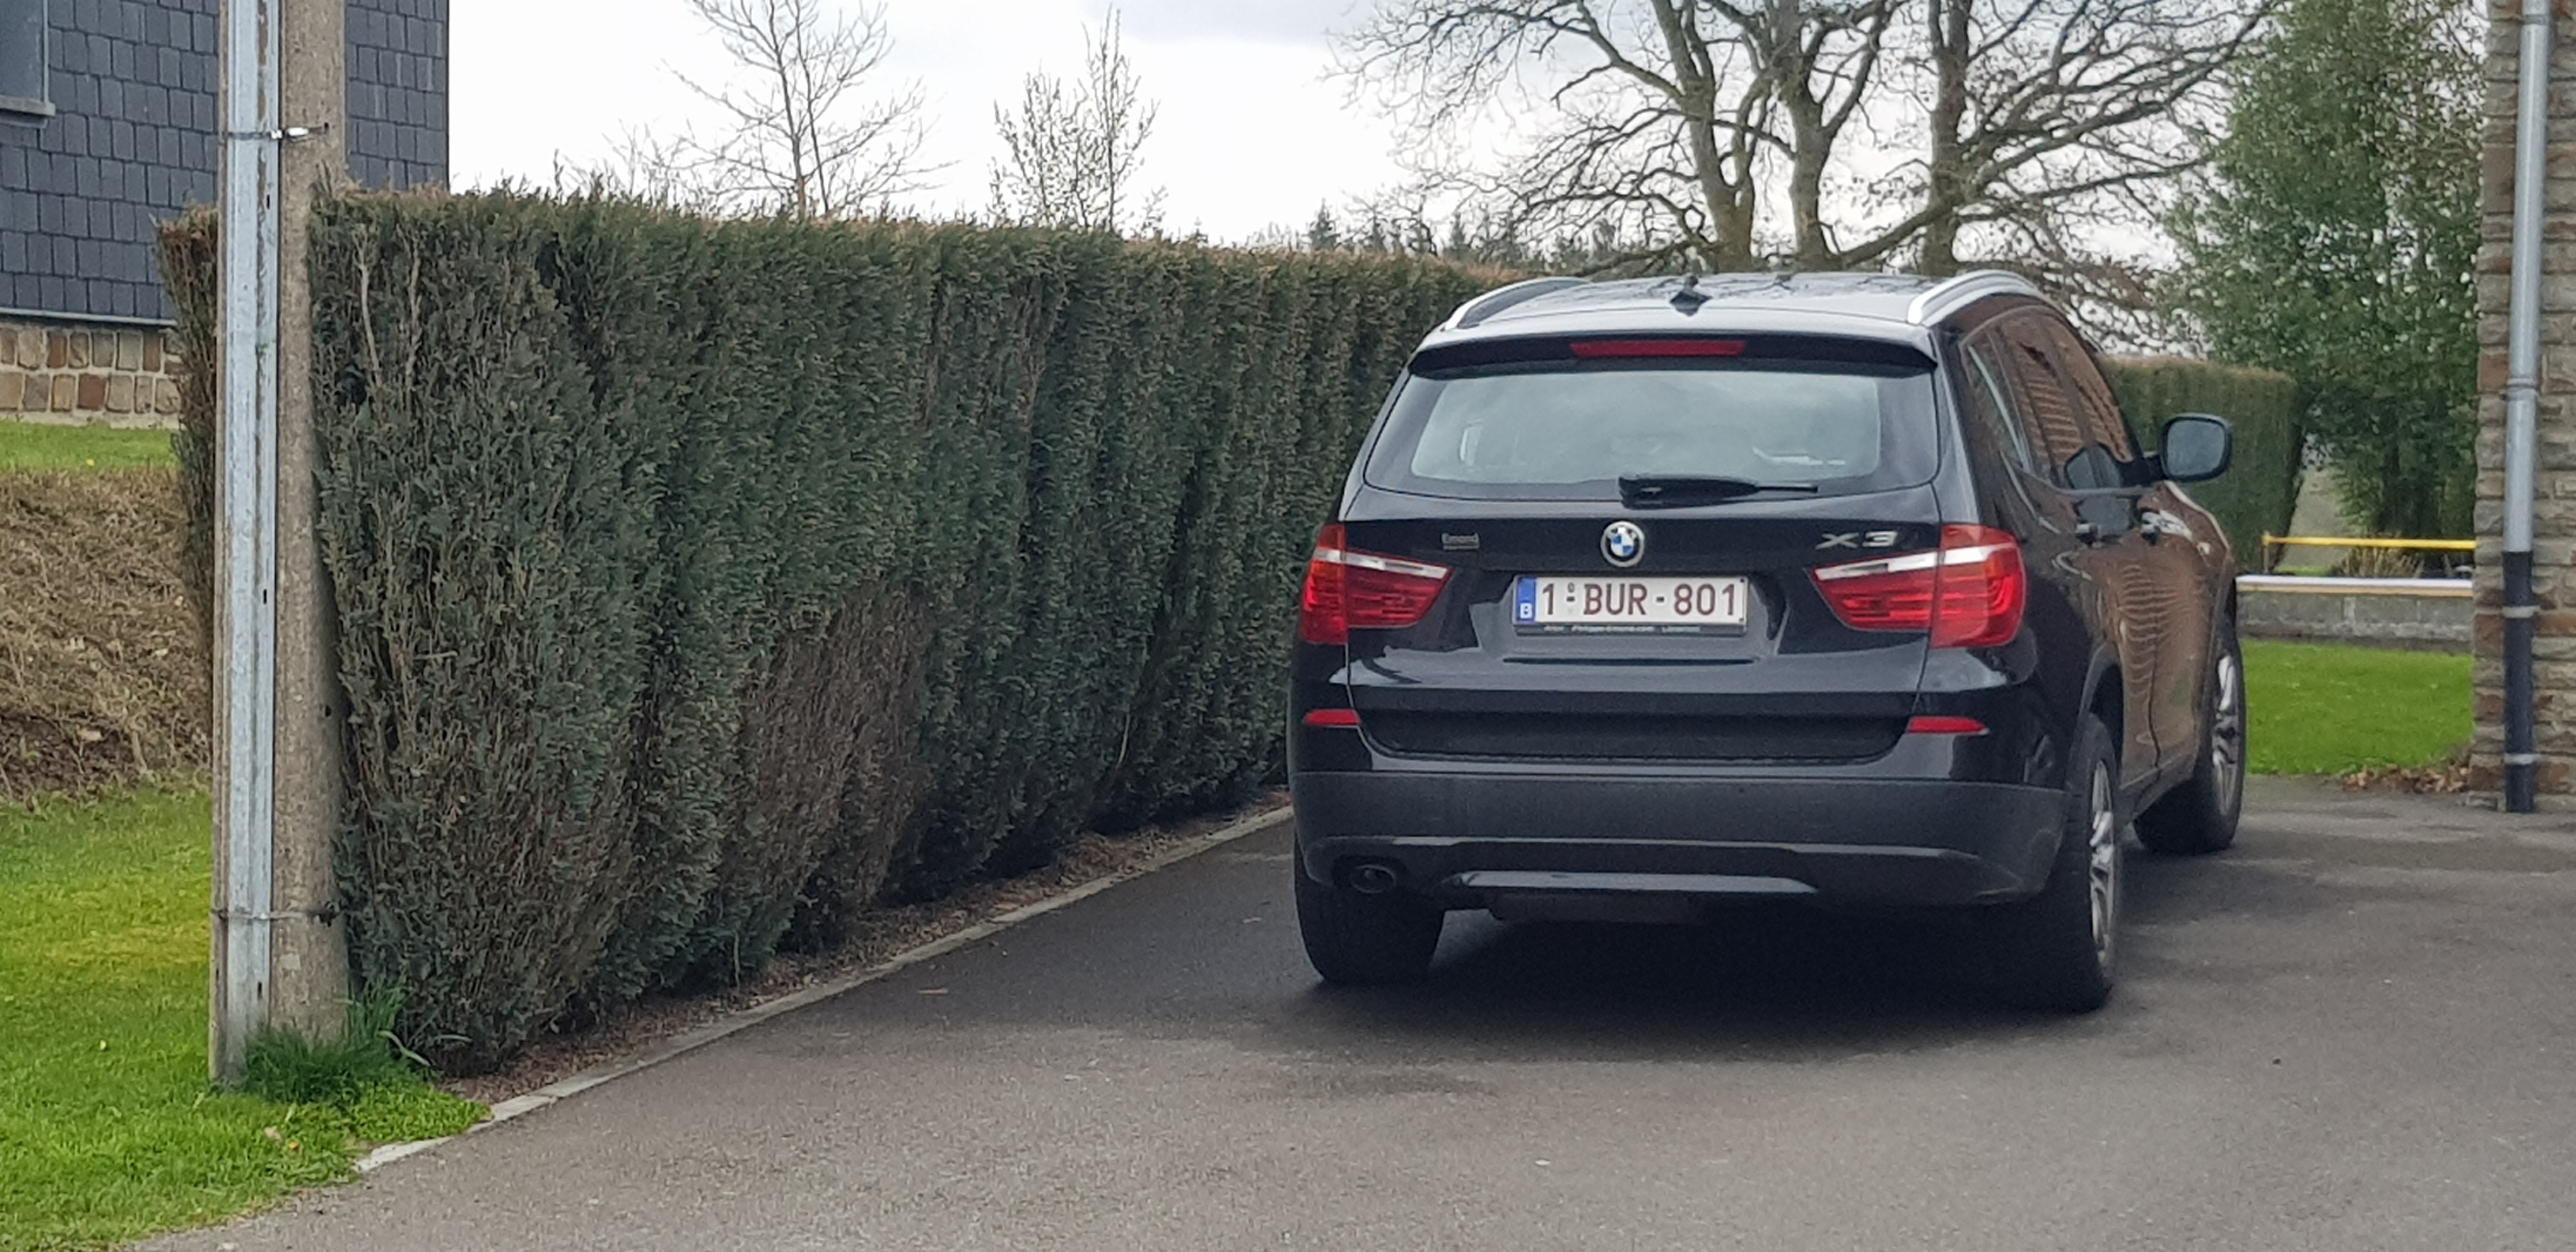licenceplate: (1514, 572, 1749, 626)
